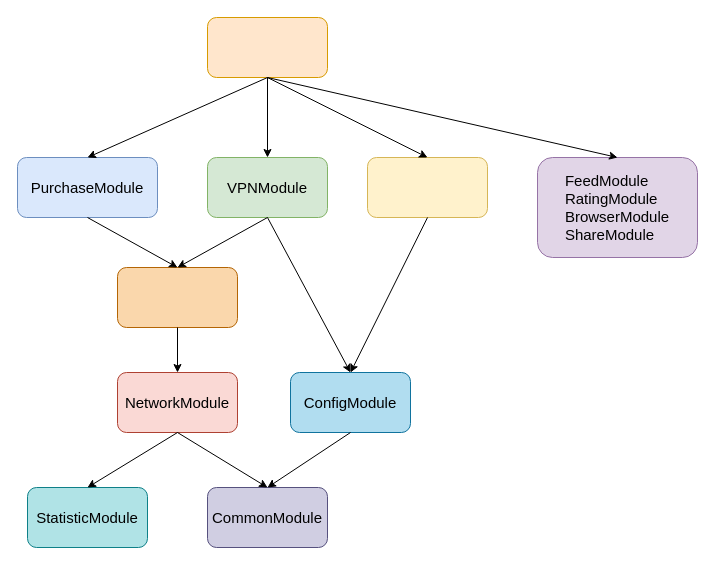
The diagram is 715 pixels wide and 565 high, and some of its shapes have lost their labels. Each missing label, with the centre of its shape:
"ADModule" goes at pixel 427 187.
"APP" goes at pixel 267 47.
"UserModule" goes at pixel 177 297.
